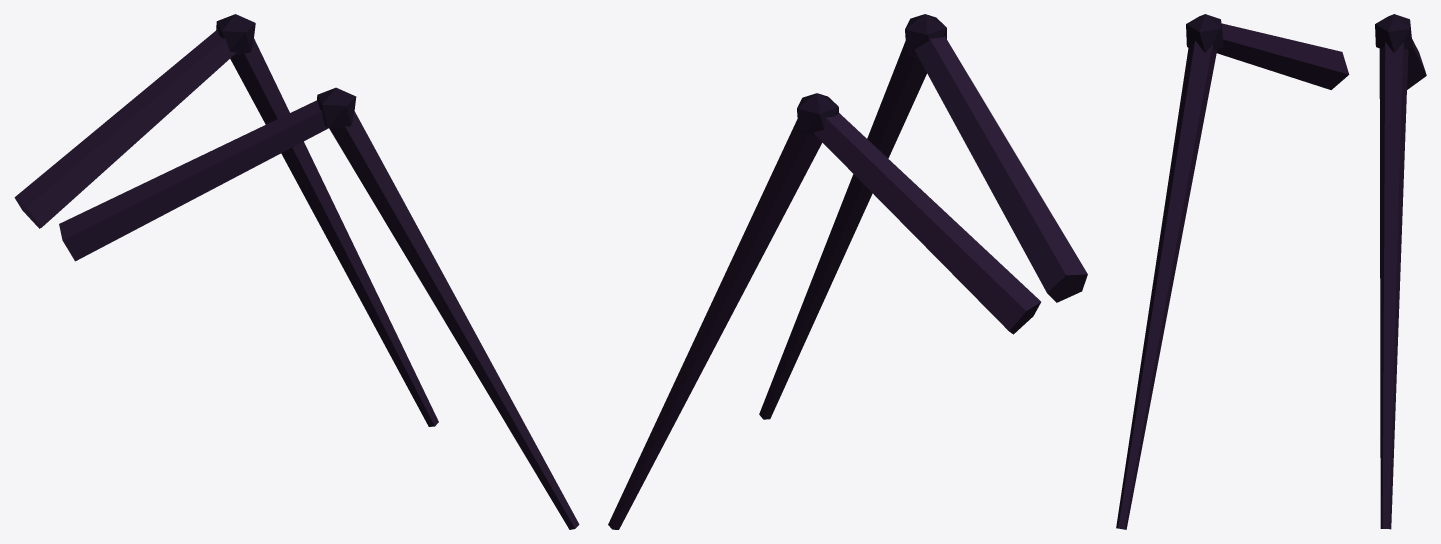
The model's file is spider_4_leg_fl.glb.
The picture shows the model from 3 angles, left to right: view 1: azimuth 30°, elevation 25°; view 2: azimuth 150°, elevation 25°; view 3: azimuth 270°, elevation 25°; orthographic projection. The views are drawn at different scales.
Visible parts, largest first — view 1: spider_4_leg_fl; view 2: spider_4_leg_fl; view 3: spider_4_leg_fl.
Part boxes in pixels (left/top/right/bottom): spider_4_leg_fl: left=14, top=14, right=579, bottom=529; spider_4_leg_fl: left=608, top=14, right=1087, bottom=529; spider_4_leg_fl: left=1116, top=14, right=1426, bottom=529.
Size of the model in its own units: 0.6358 by 0.6754 by 0.444.
